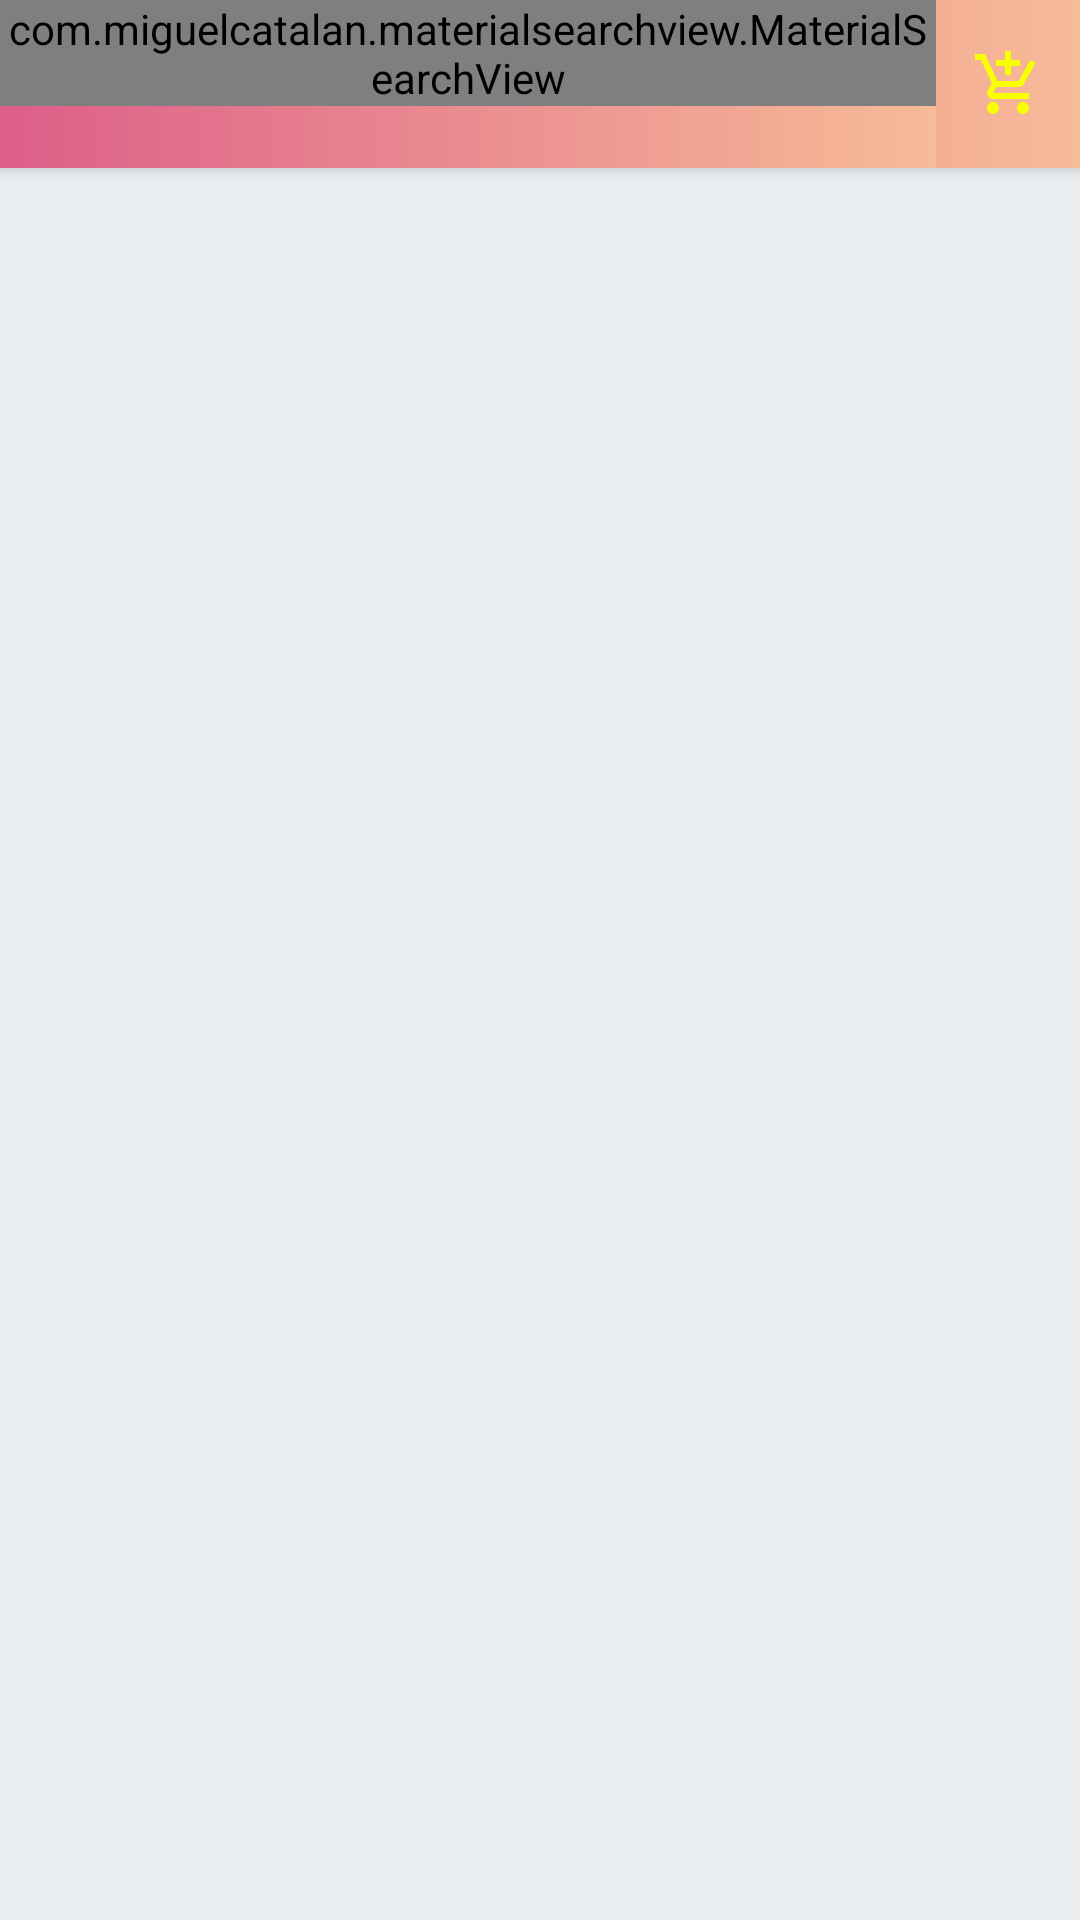

Locate icon controls on the screen. Image size 1080x1920, boxes as [x1,y1,x2,y2].
add to cart: [975,51,1035,114]
